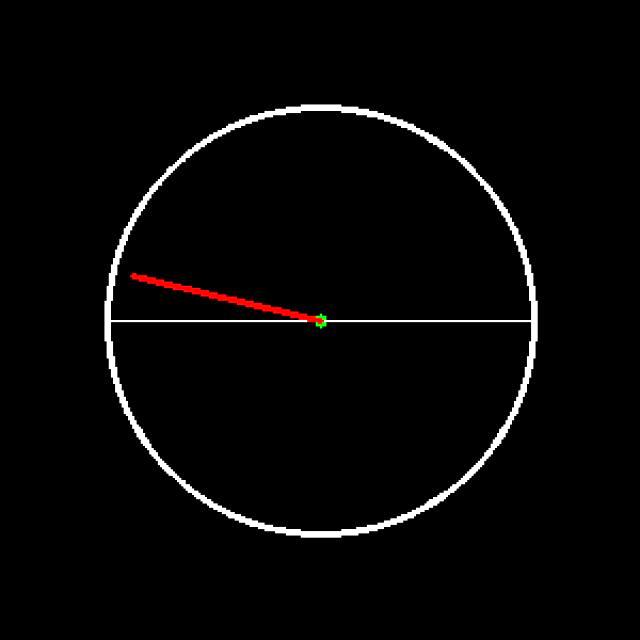Needle_Tip: (99, 254, 178, 304)
Needle_base: (299, 289, 342, 348)
